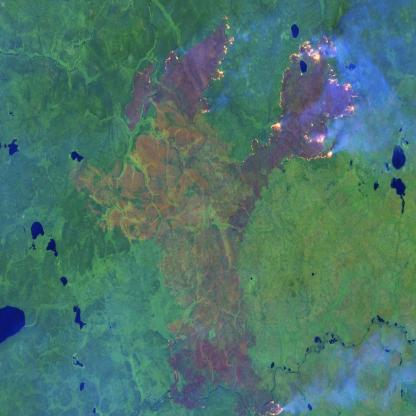fire: (264, 33, 361, 169), (158, 12, 236, 123)
